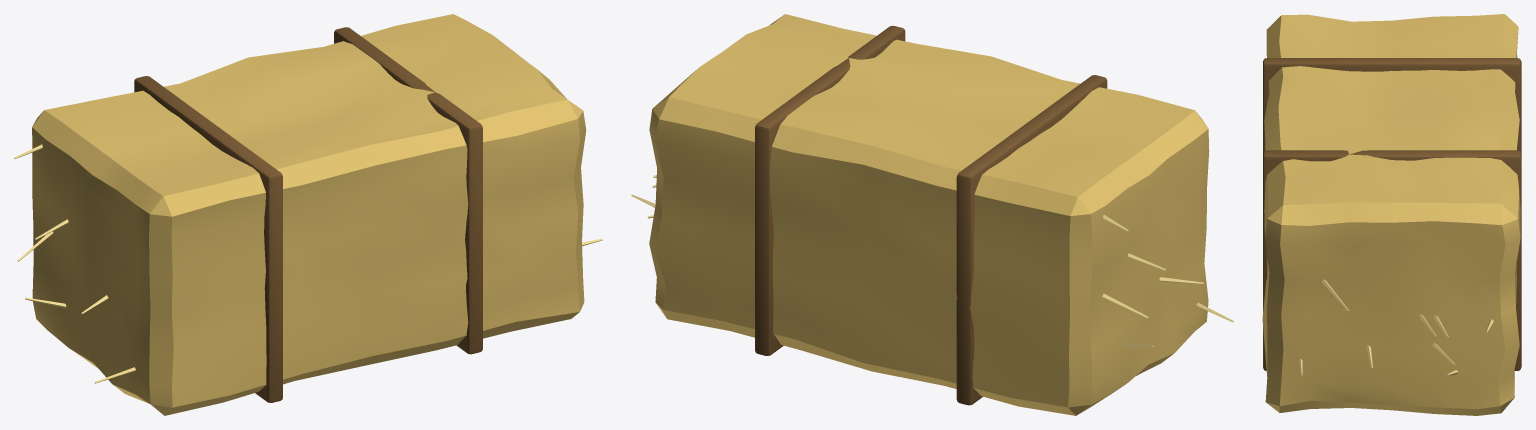
The model's file is haybale.glb.
3 views of the same model, side by side, from view 1: azimuth 30°, elevation 25°; view 2: azimuth 150°, elevation 25°; view 3: azimuth 270°, elevation 25° (orthographic). The views are drawn at different scales.
Parts seen in each view (by area): view 1: haybale; view 2: haybale; view 3: haybale.
Part boxes in pixels (left/top/right/bottom): haybale: left=14, top=14, right=602, bottom=415; haybale: left=631, top=14, right=1233, bottom=415; haybale: left=1262, top=14, right=1521, bottom=415.
Bounding box in the file's own units: 1.12 × 0.4853 × 0.5207.
